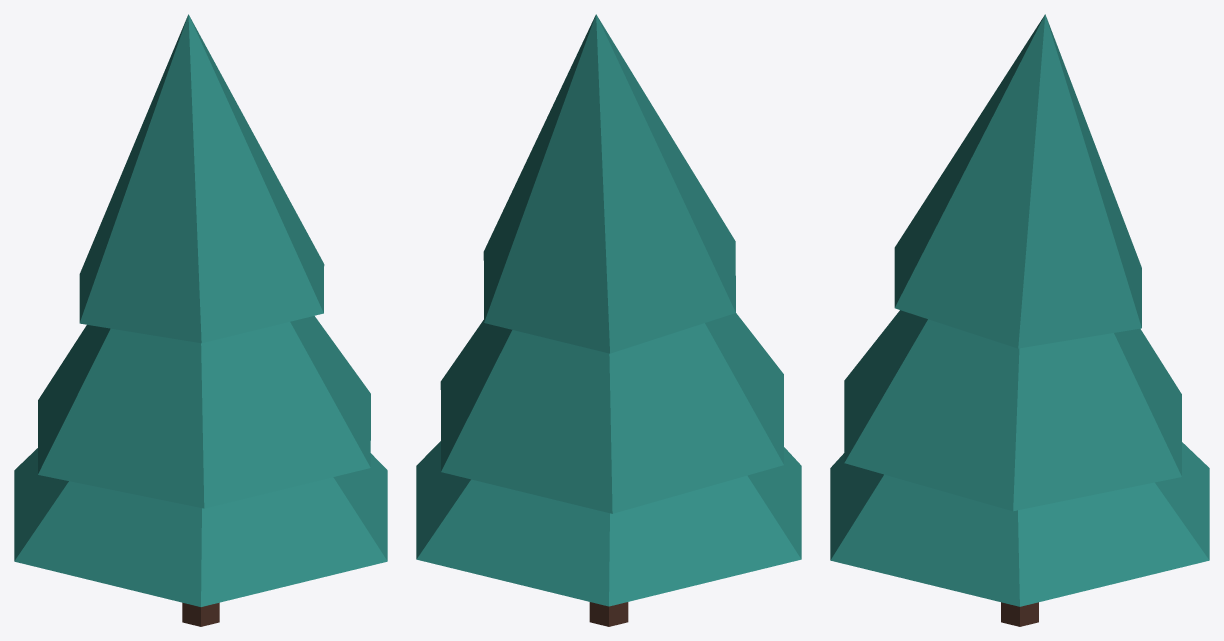
The model's file is Tree_Type7_3.fbx.
3 renders of one model, left to right at view 1: azimuth 30°, elevation 25°; view 2: azimuth 150°, elevation 25°; view 3: azimuth 270°, elevation 25°, orthographic. The views are drawn at different scales.
Parts seen in each view (by area): view 1: Tree_Type7_3; view 2: Tree_Type7_3; view 3: Tree_Type7_3.
Boxes of the visible parts, x1,y1,x2,y2 form: Tree_Type7_3: (14, 14, 387, 626); Tree_Type7_3: (416, 14, 801, 626); Tree_Type7_3: (830, 14, 1209, 626).
Bounding box in the file's own units: 224 × 340 × 194.
